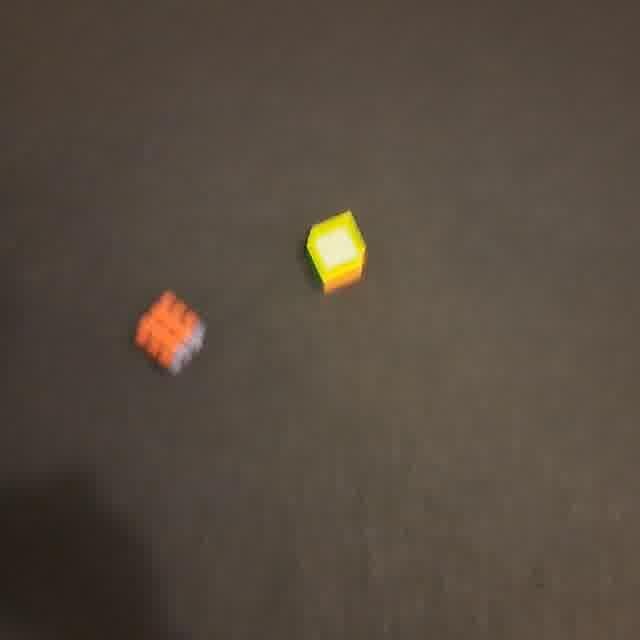rubix_cube: (132, 289, 207, 377), (303, 208, 374, 295)
